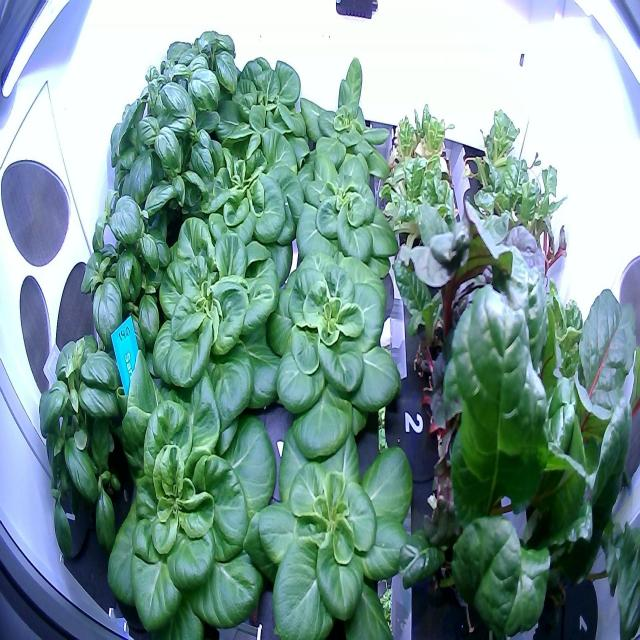young: (98, 353, 282, 639), (242, 405, 428, 639), (142, 199, 295, 442), (252, 246, 412, 467), (179, 110, 305, 282), (276, 132, 406, 287), (292, 47, 406, 197), (211, 47, 314, 192)
